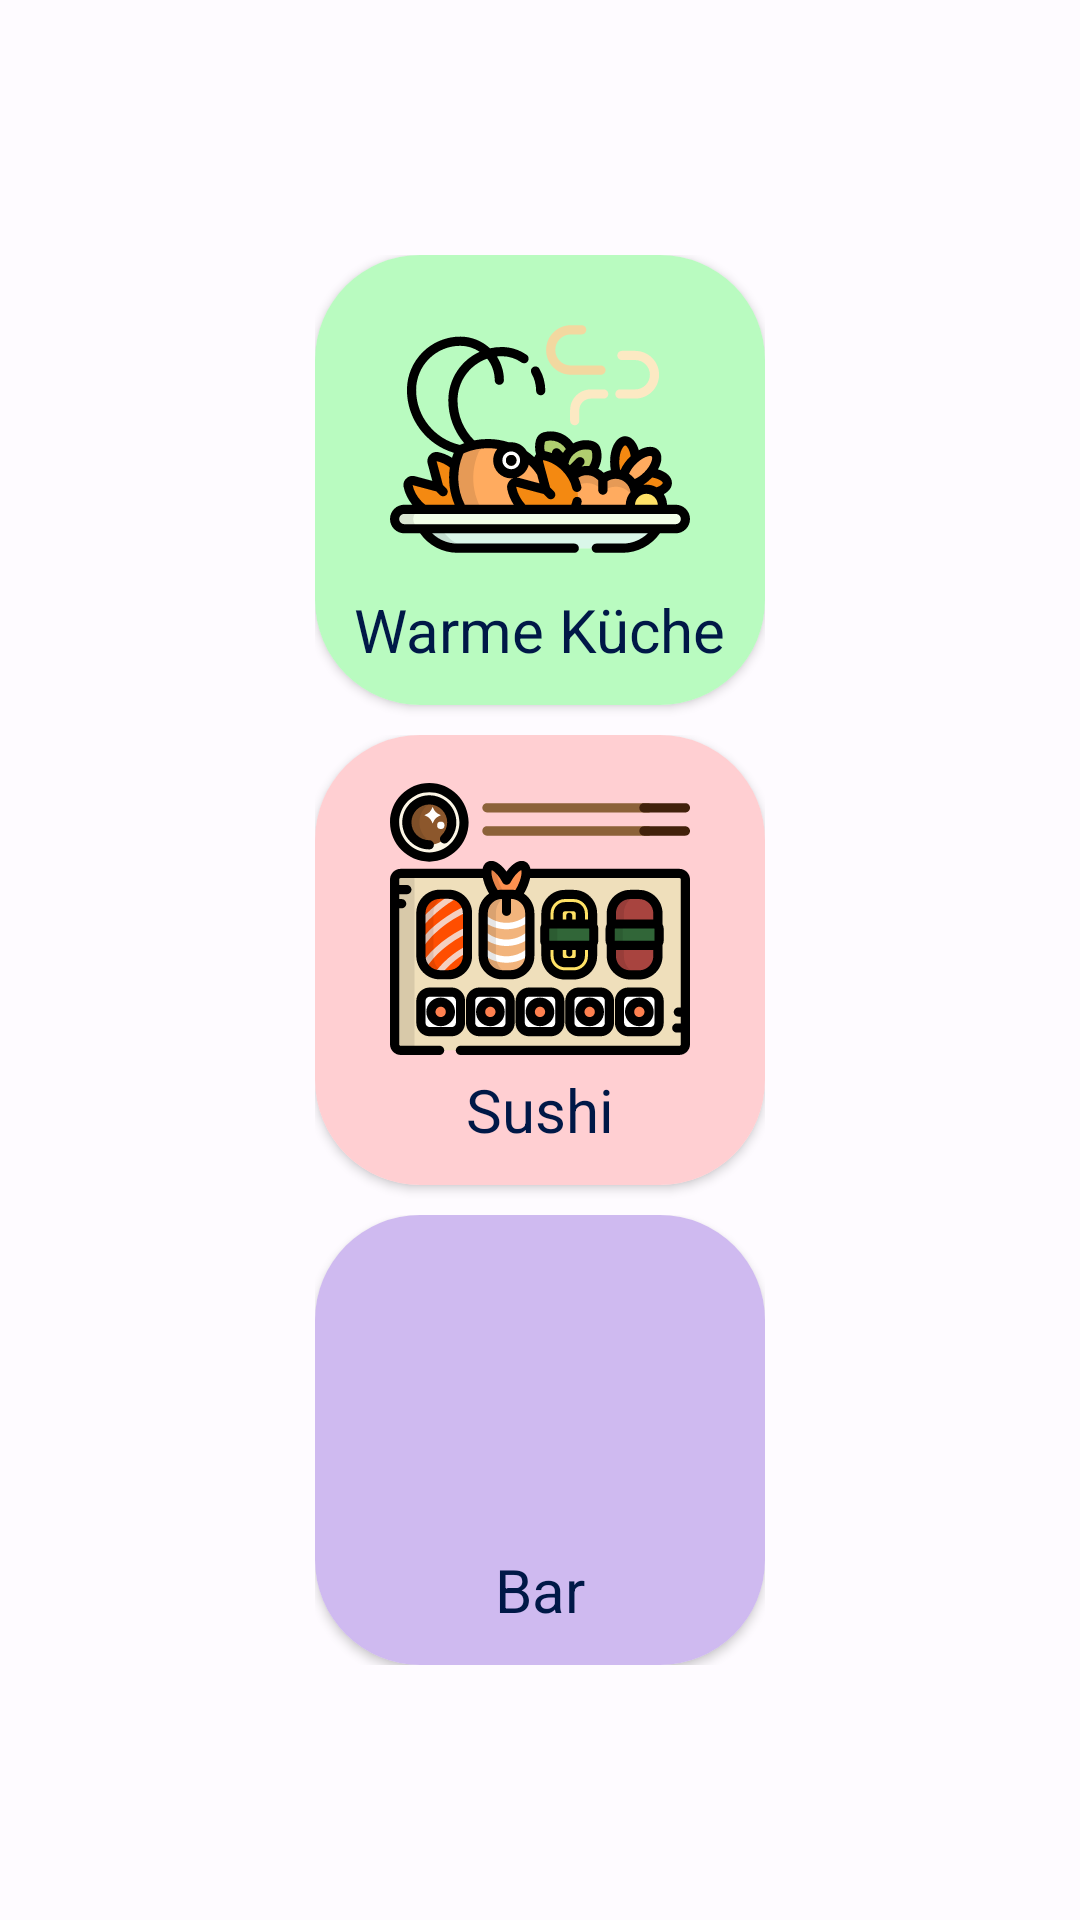

Screen size 1080x1920. Icon name, then its center in pixels as [x,y]:
lobster: [540,439]
